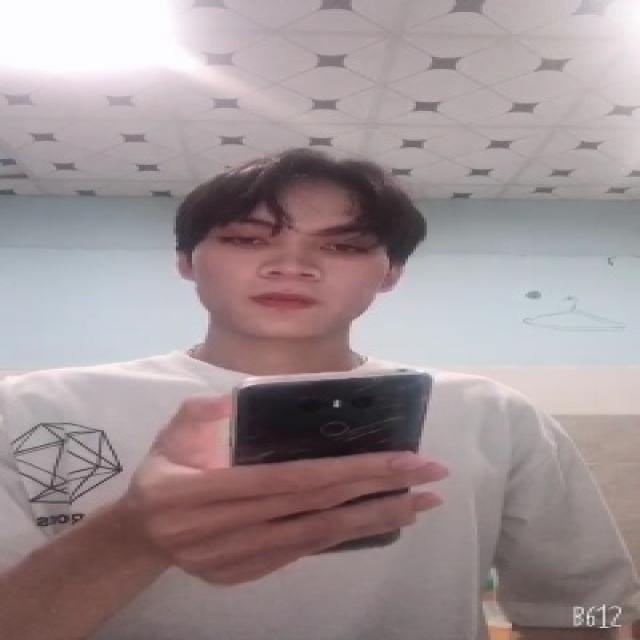Phone: (227, 369, 437, 554)
